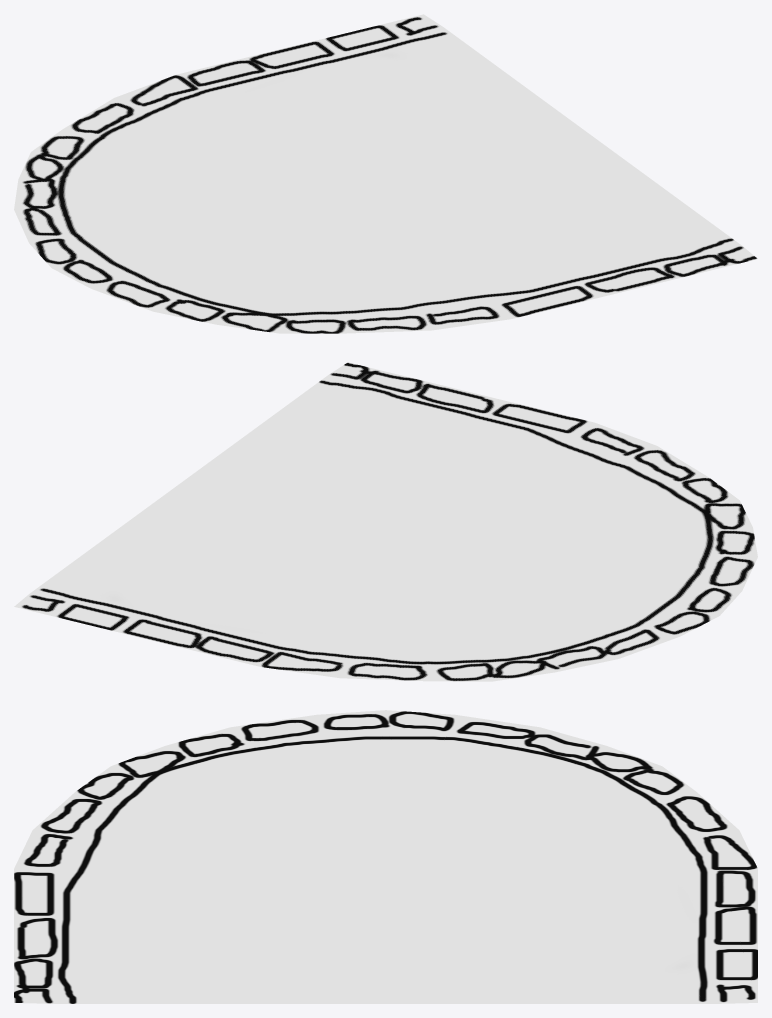
The model's file is Curb.fbx.
3 views of the same model, one above another, from view 1: azimuth 30°, elevation 25°; view 2: azimuth 150°, elevation 25°; view 3: azimuth 270°, elevation 25° (orthographic). The views are drawn at different scales.
Parts seen in each view (by area): view 1: Plane.001; view 2: Plane.001; view 3: Plane.001.
Part boxes in pixels (x1,y1,x2,y2): Plane.001: (14,14,757,333); Plane.001: (14,362,757,681); Plane.001: (14,710,757,1003).
Size of the model in its own units: 685 by 0.000119 by 733.
Materials: 1 (1 with a texture image).
